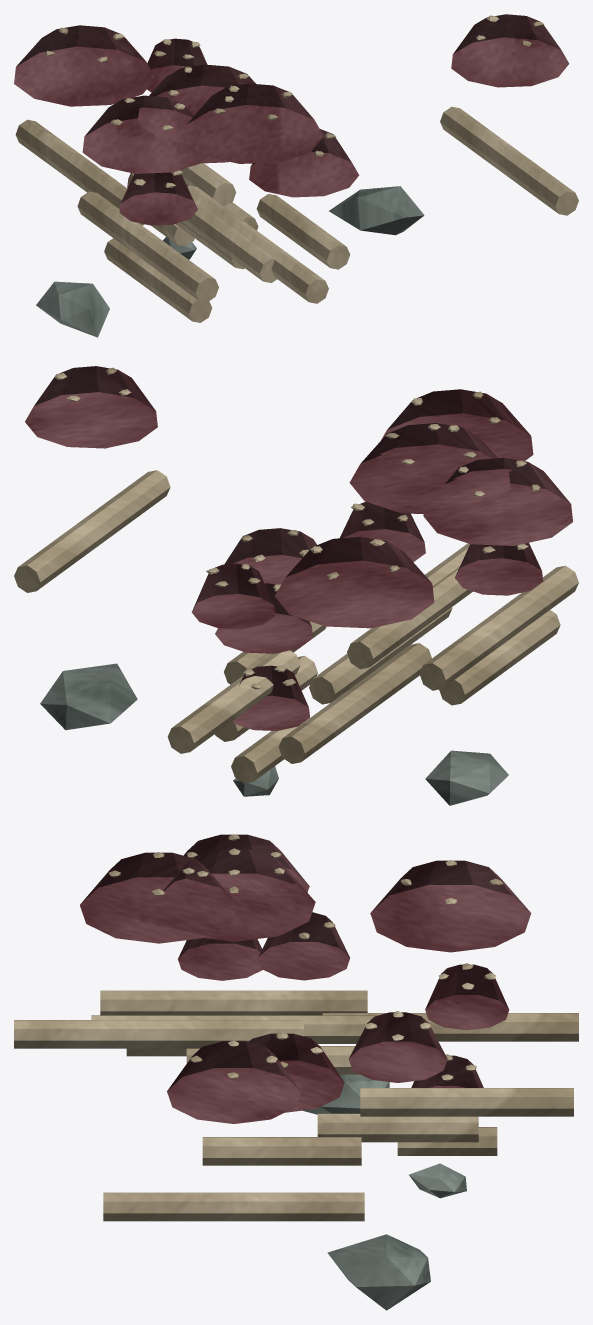
File: 0222_mushroom_patch_22.glb
3 renders of one model, top to bottom at view 1: azimuth 30°, elevation 25°; view 2: azimuth 150°, elevation 25°; view 3: azimuth 270°, elevation 25°, orthographic. The views are drawn at different scales.
Visible parts, largest first — view 1: cloth, bone, stone; view 2: cloth, bone, stone; view 3: cloth, bone, stone.
Boxes of the visible parts, bbox=[...] form: cloth: bbox=[14, 14, 569, 225]; bone: bbox=[15, 15, 578, 322]; stone: bbox=[36, 186, 424, 337]; cloth: bbox=[25, 366, 572, 730]; bone: bbox=[14, 367, 578, 783]; stone: bbox=[40, 663, 508, 805]; cloth: bbox=[80, 834, 531, 1123]; bone: bbox=[14, 834, 578, 1221]; stone: bbox=[303, 1074, 466, 1310].
Size of the model in its own units: 2.4 by 1.3 by 2.22.
Materials: 3 (3 with a texture image).
